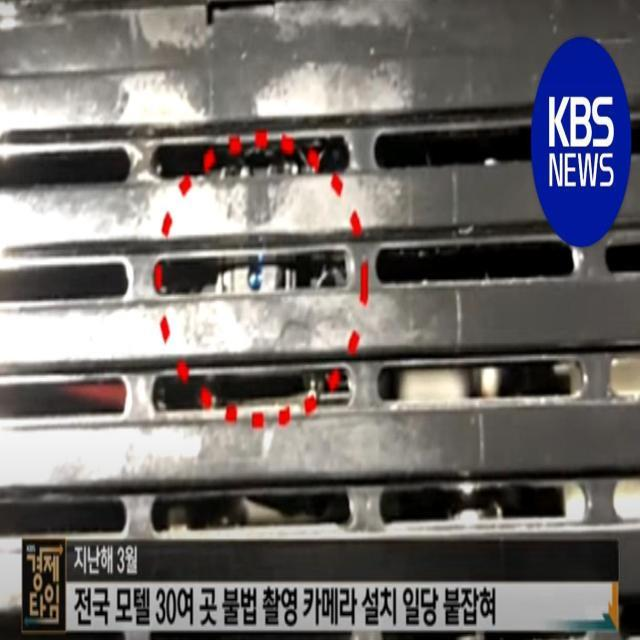hidden camera: (238, 249, 271, 293)
